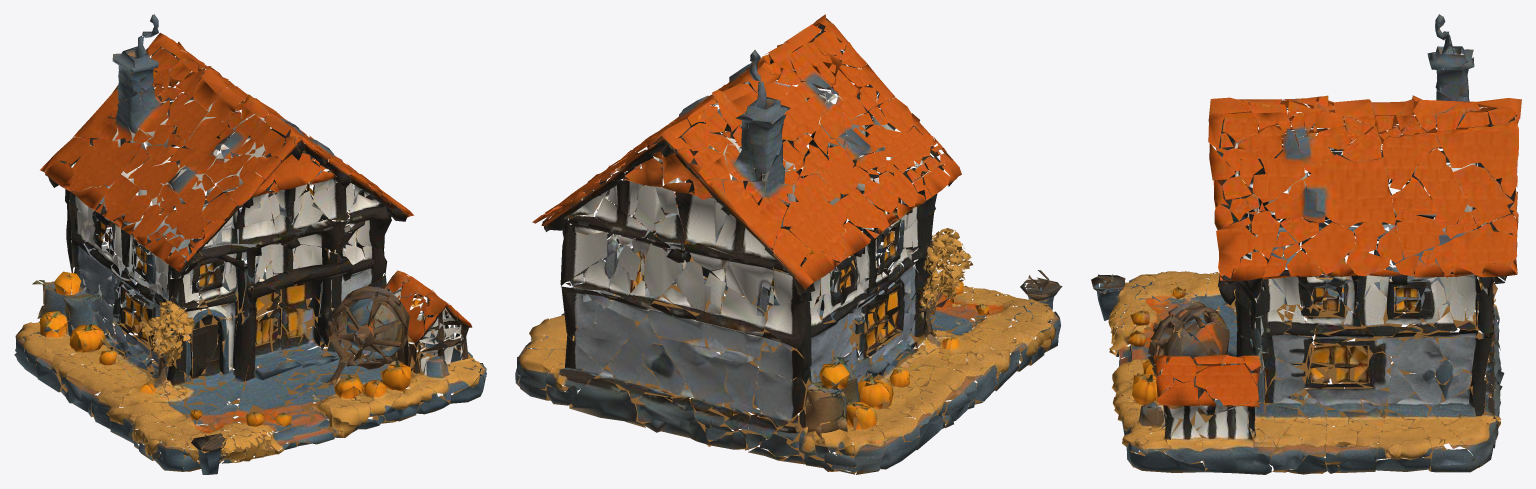
File: harvest_mill.glb
The picture shows the model from 3 angles, left to right: view 1: azimuth 30°, elevation 25°; view 2: azimuth 150°, elevation 25°; view 3: azimuth 270°, elevation 25°; orthographic projection. The views are drawn at different scales.
Parts seen in each view (by area): view 1: harvest_mill; view 2: harvest_mill; view 3: harvest_mill.
Boxes of the visible parts, x1,y1,x2,y2 form: harvest_mill: [14, 14, 486, 474]; harvest_mill: [515, 14, 1062, 474]; harvest_mill: [1091, 14, 1521, 474].
Bounding box in the file's own units: 2.93 × 2.7 × 2.95.
1 material, 1 textured.
